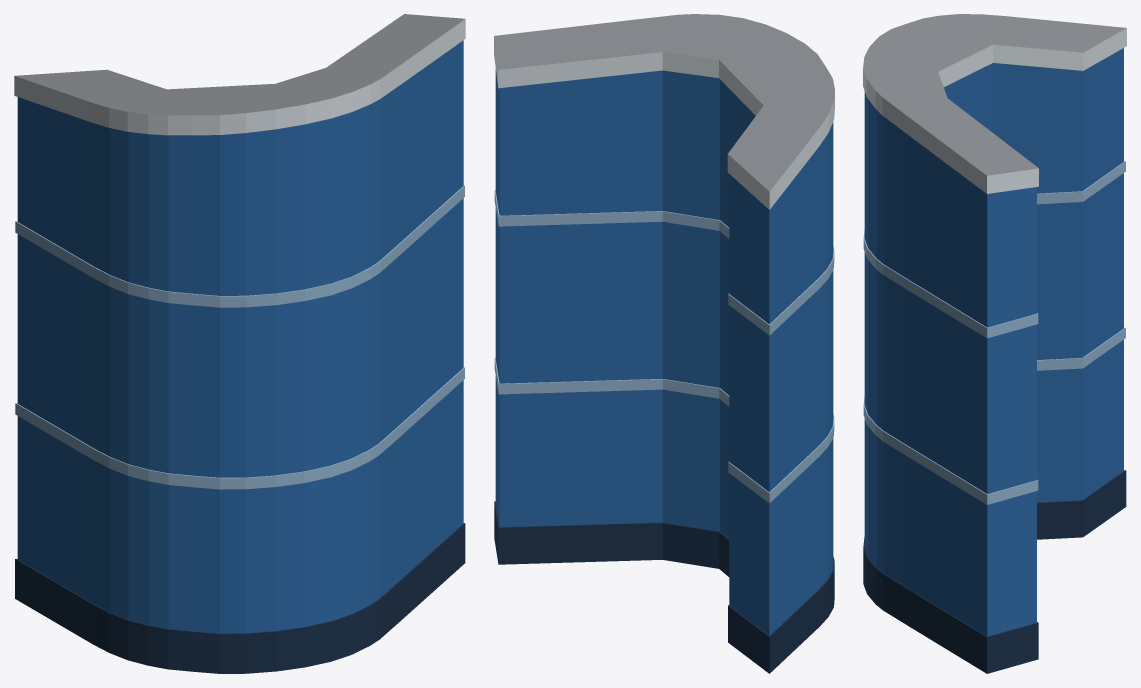
File: fontainebleau.glb
The picture shows the model from 3 angles, left to right: view 1: azimuth 30°, elevation 25°; view 2: azimuth 150°, elevation 25°; view 3: azimuth 270°, elevation 25°; orthographic projection. The views are drawn at different scales.
Visible parts, largest first — view 1: Tower; view 2: Tower; view 3: Tower.
Boxes of the visible parts, x1,y1,x2,y2 form: Tower: (14,14,465,673); Tower: (494,14,834,673); Tower: (863,14,1126,673).
Size of the model in its own units: 158 by 226 by 105.
